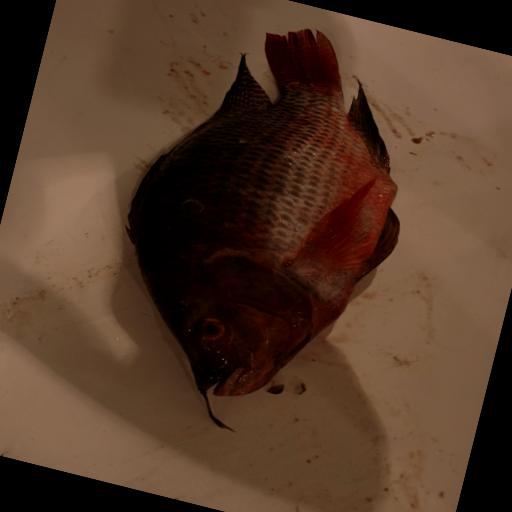Tilapia: (90, 0, 442, 430)
